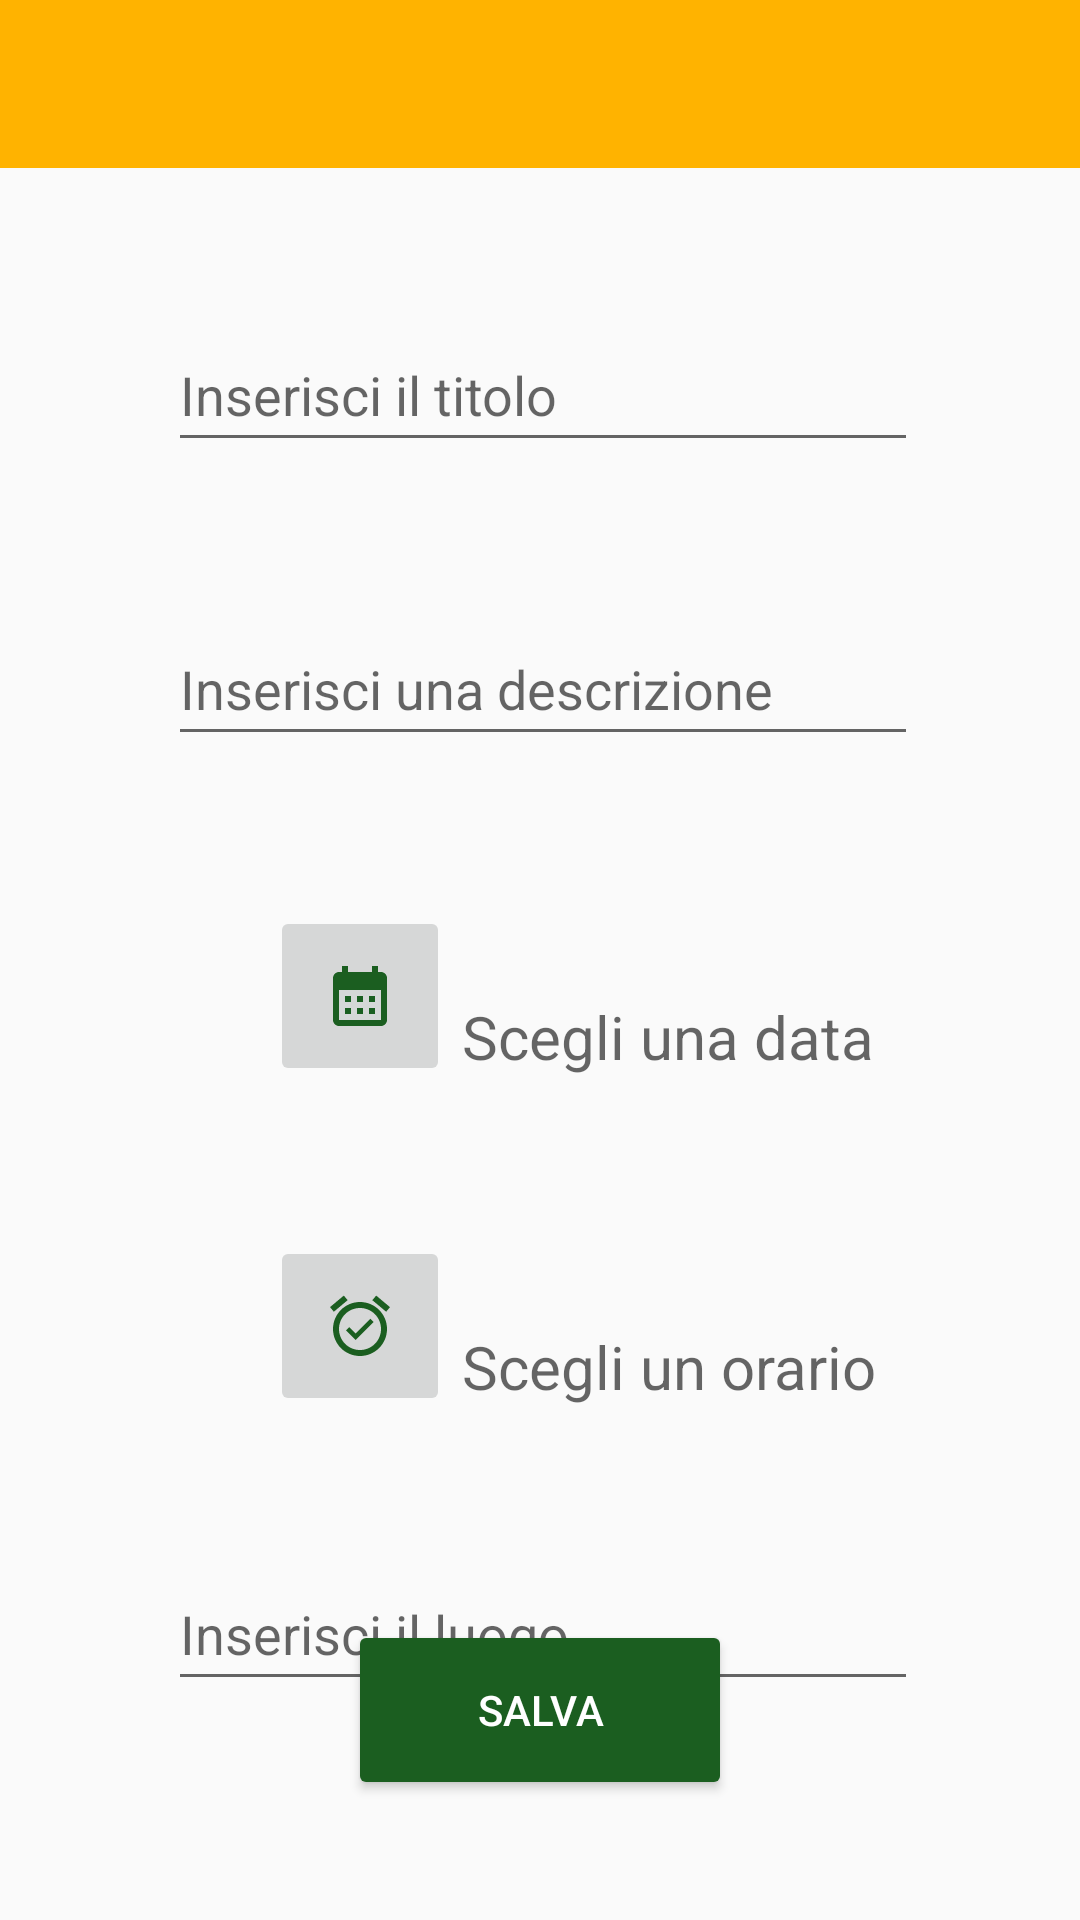

Icons on this 1080x1920 Android screen, each with the point to tap as [x,y]:
alarm: [360,1326]
calendar month: [360,996]
